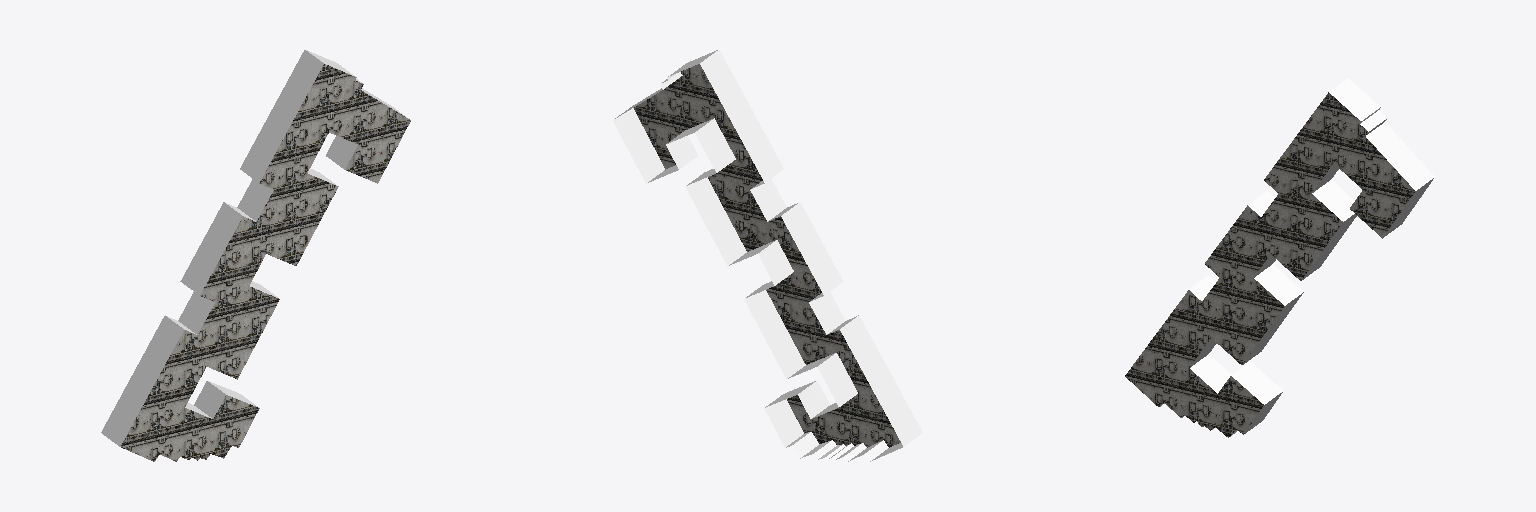
3 renders of one model, left to right at view 1: azimuth 30°, elevation 25°; view 2: azimuth 150°, elevation 25°; view 3: azimuth 330°, elevation 25°, orthographic.
Visible parts, largest first — view 1: Building; view 2: Building; view 3: Building.
Part boxes in pixels (x1,y1,x2,y2): Building: (101,50,410,461); Building: (613,50,922,461); Building: (1125,78,1434,437).
Size of the model in its own units: 77.48 by 94.31 by 9.
Materials: 2 (1 with a texture image).